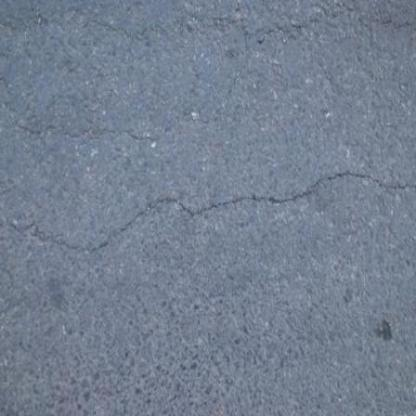Cracks: (0, 158, 416, 268)
